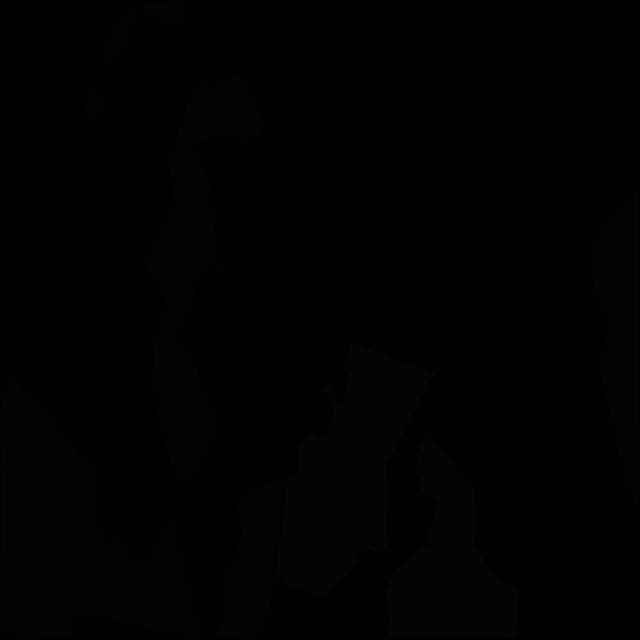cardboard: (0, 370, 288, 640), (142, 173, 222, 480), (590, 187, 640, 509), (167, 71, 264, 221), (99, 0, 186, 69), (83, 79, 107, 123)
rigid_plastic: (192, 0, 336, 160), (76, 0, 110, 86)
soft_plastic: (386, 430, 520, 637), (275, 378, 388, 597), (342, 343, 436, 463)
